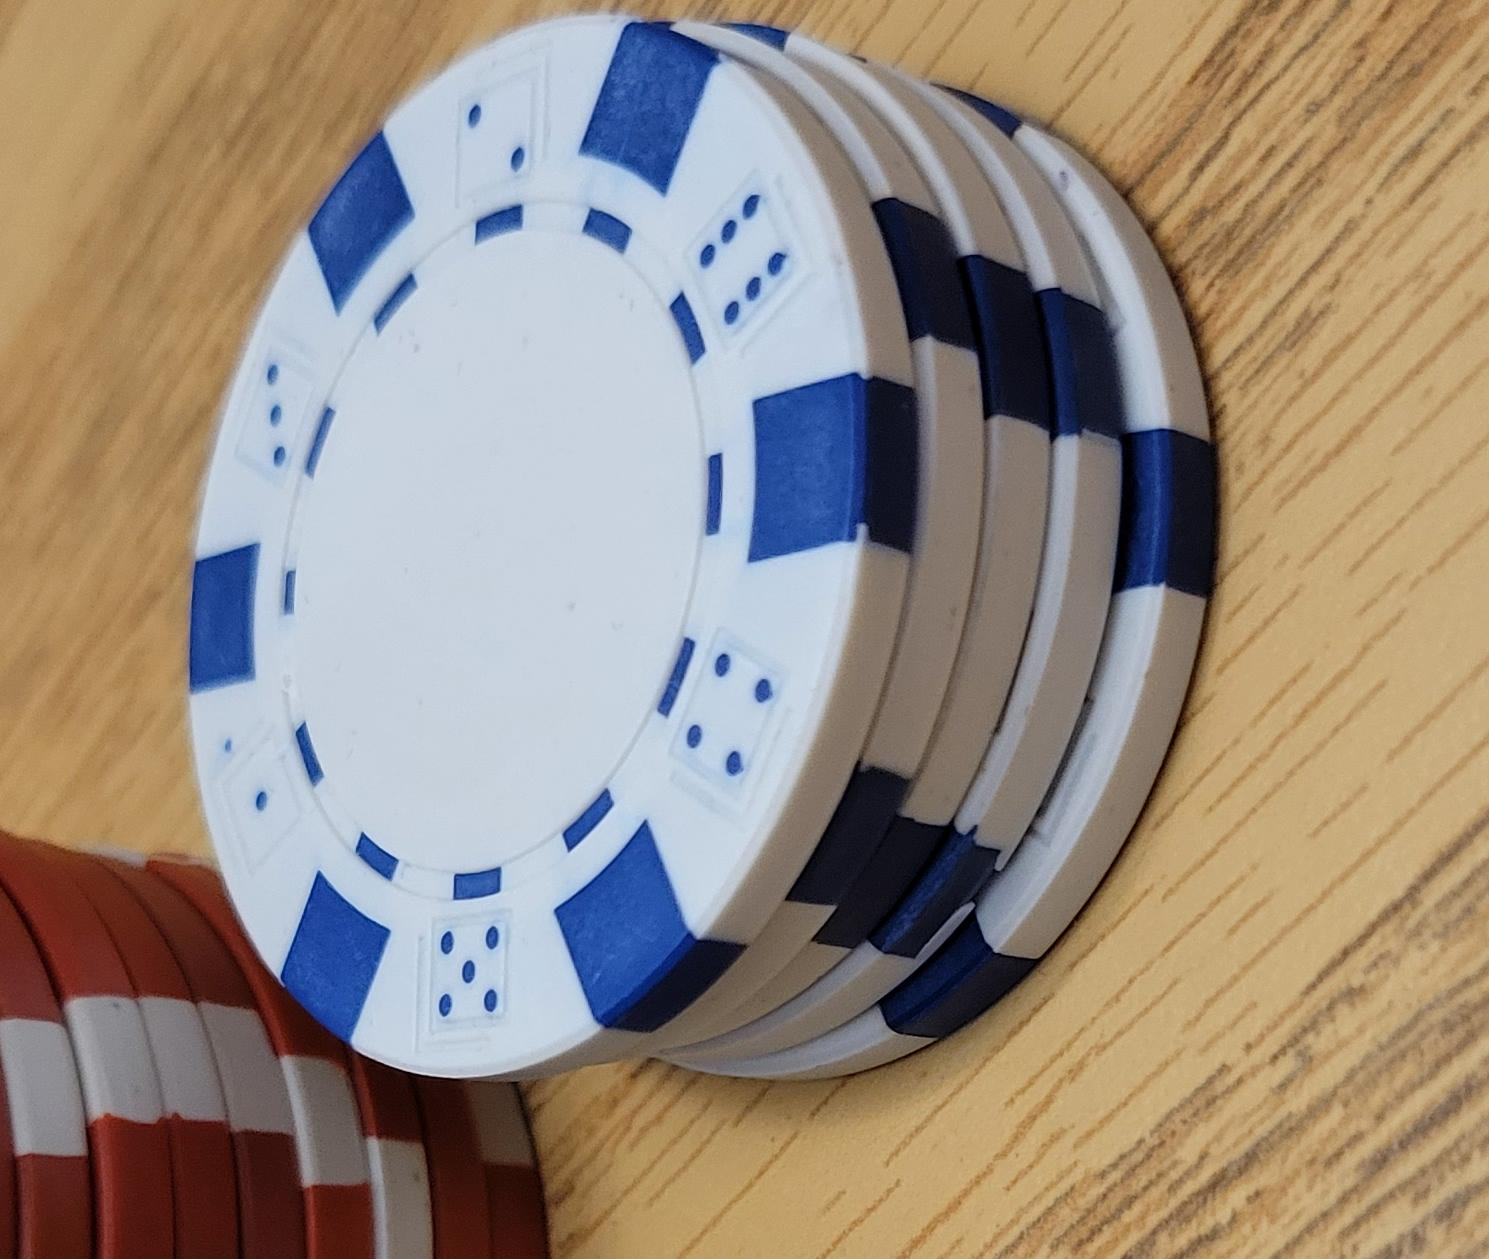Chip: (1, 79, 788, 1259)
